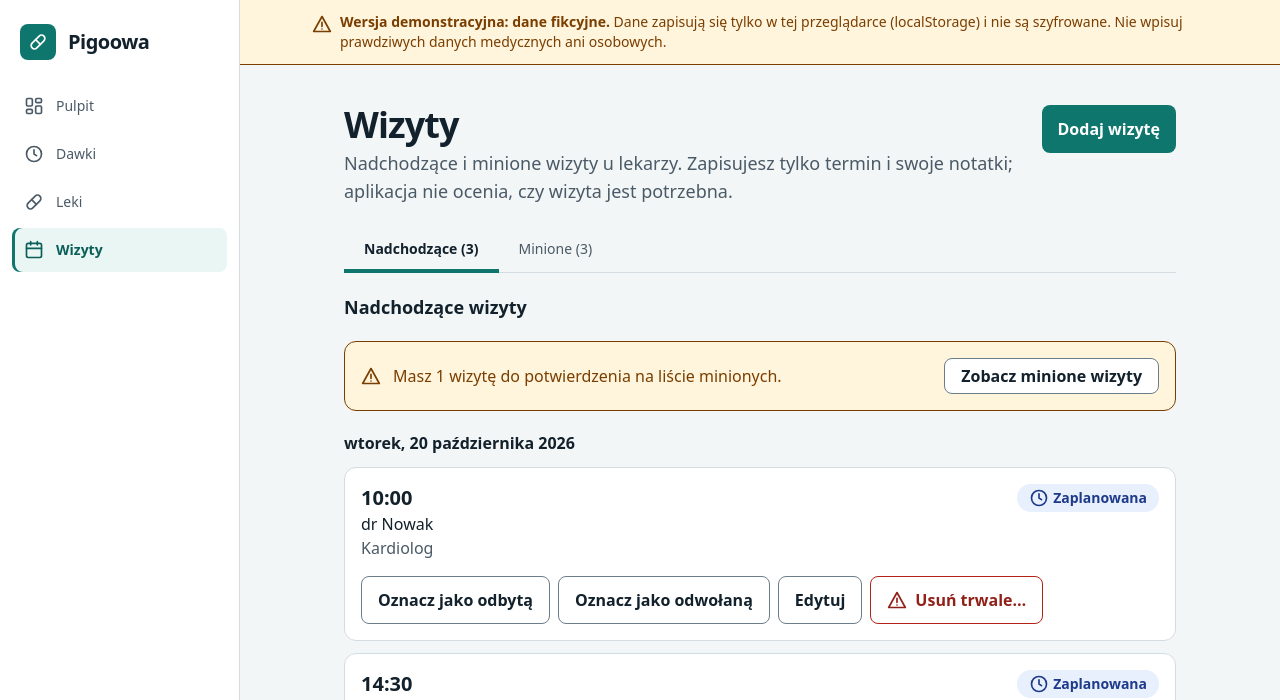
appointments: tabs and grouping › switches by click and by keyboard, and keeps the choice in the address
Click the tab "Minione (3)" at (555, 251), box [498,229,612,273]
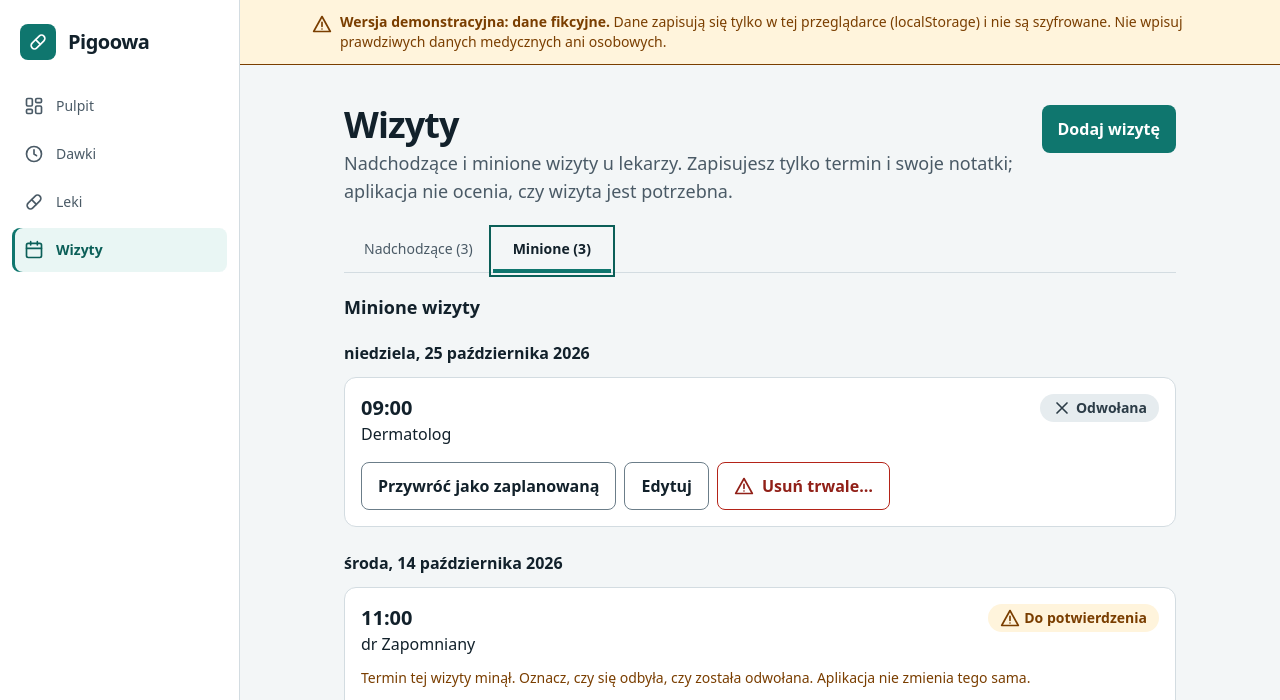
Expected: the heading "Minione wizyty" is shown, [344,295,480,319]
Press Arrowleft
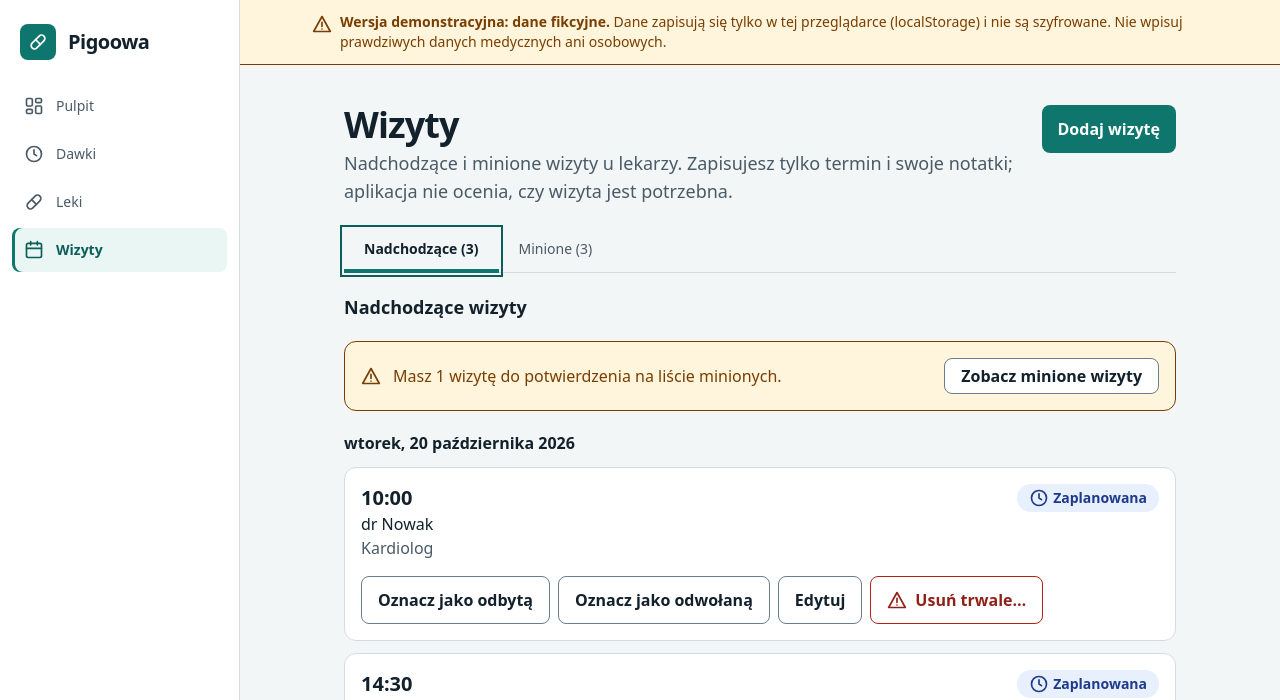
Expected: the heading "Nadchodzące wizyty" is shown, [344,295,527,319]
